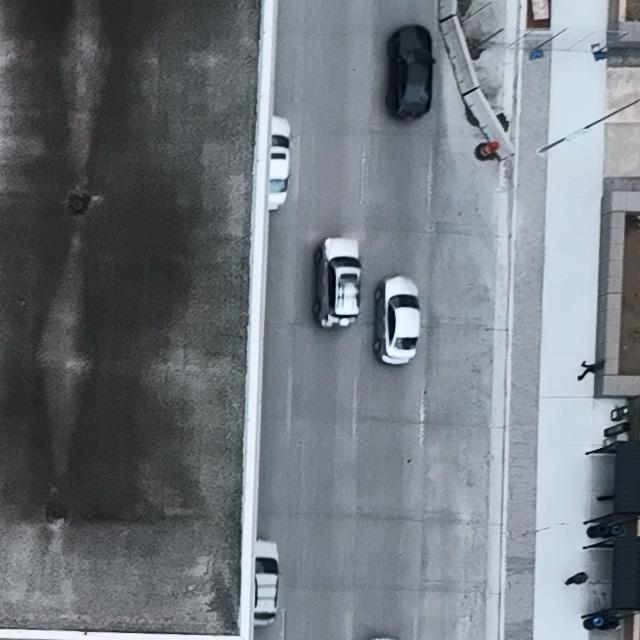car: (386, 24, 436, 122), (313, 235, 364, 329), (373, 276, 421, 366), (267, 115, 292, 210), (253, 539, 280, 624)
